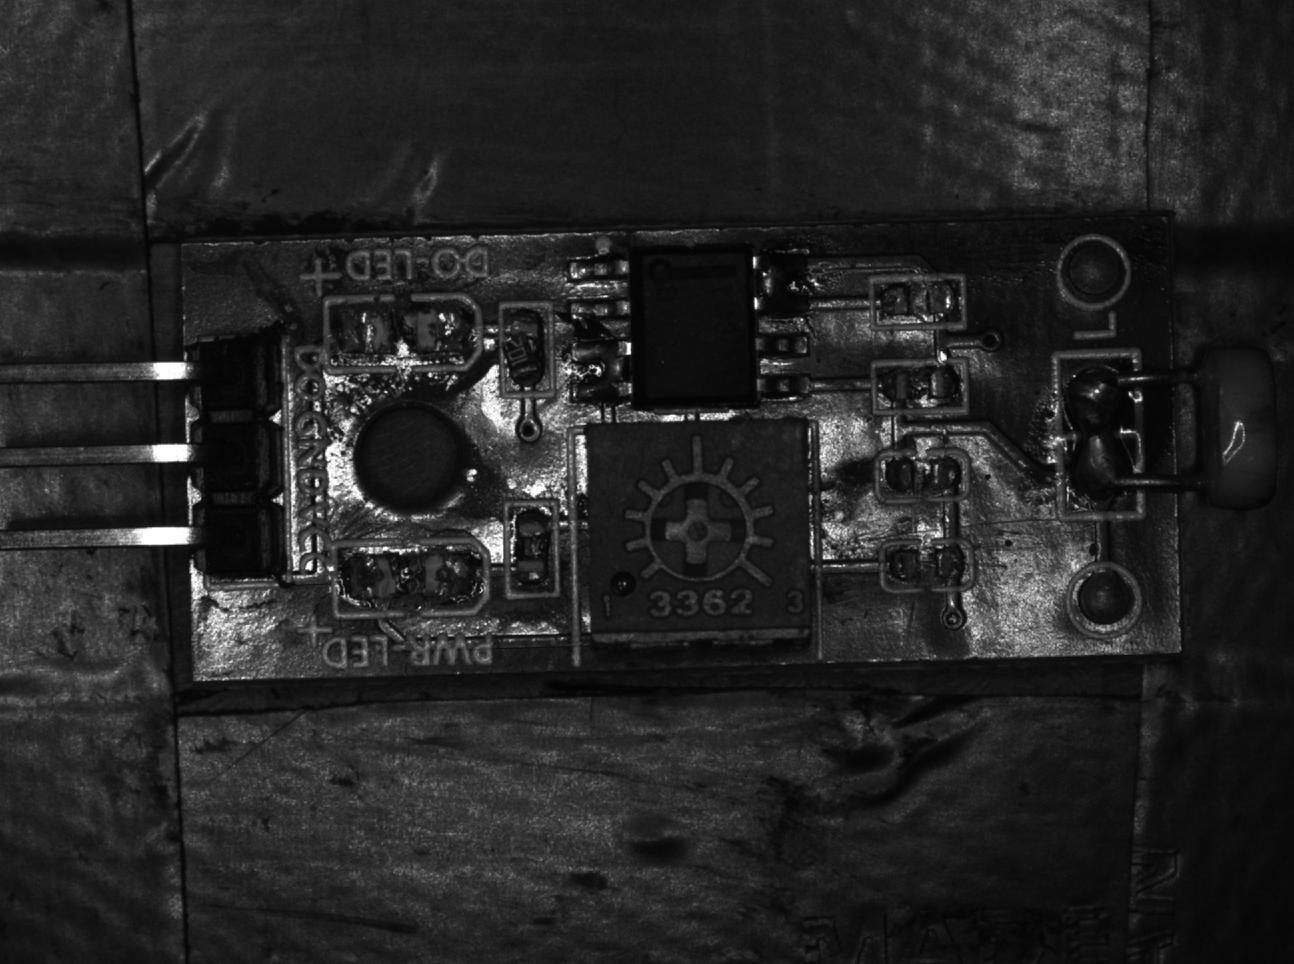bridge: (1056, 356, 1144, 519), (752, 248, 811, 316), (571, 341, 629, 410)
lifted: (499, 302, 555, 400)
miss: (873, 445, 970, 509), (869, 361, 974, 418), (869, 274, 965, 331), (504, 501, 558, 598), (874, 539, 974, 589)
